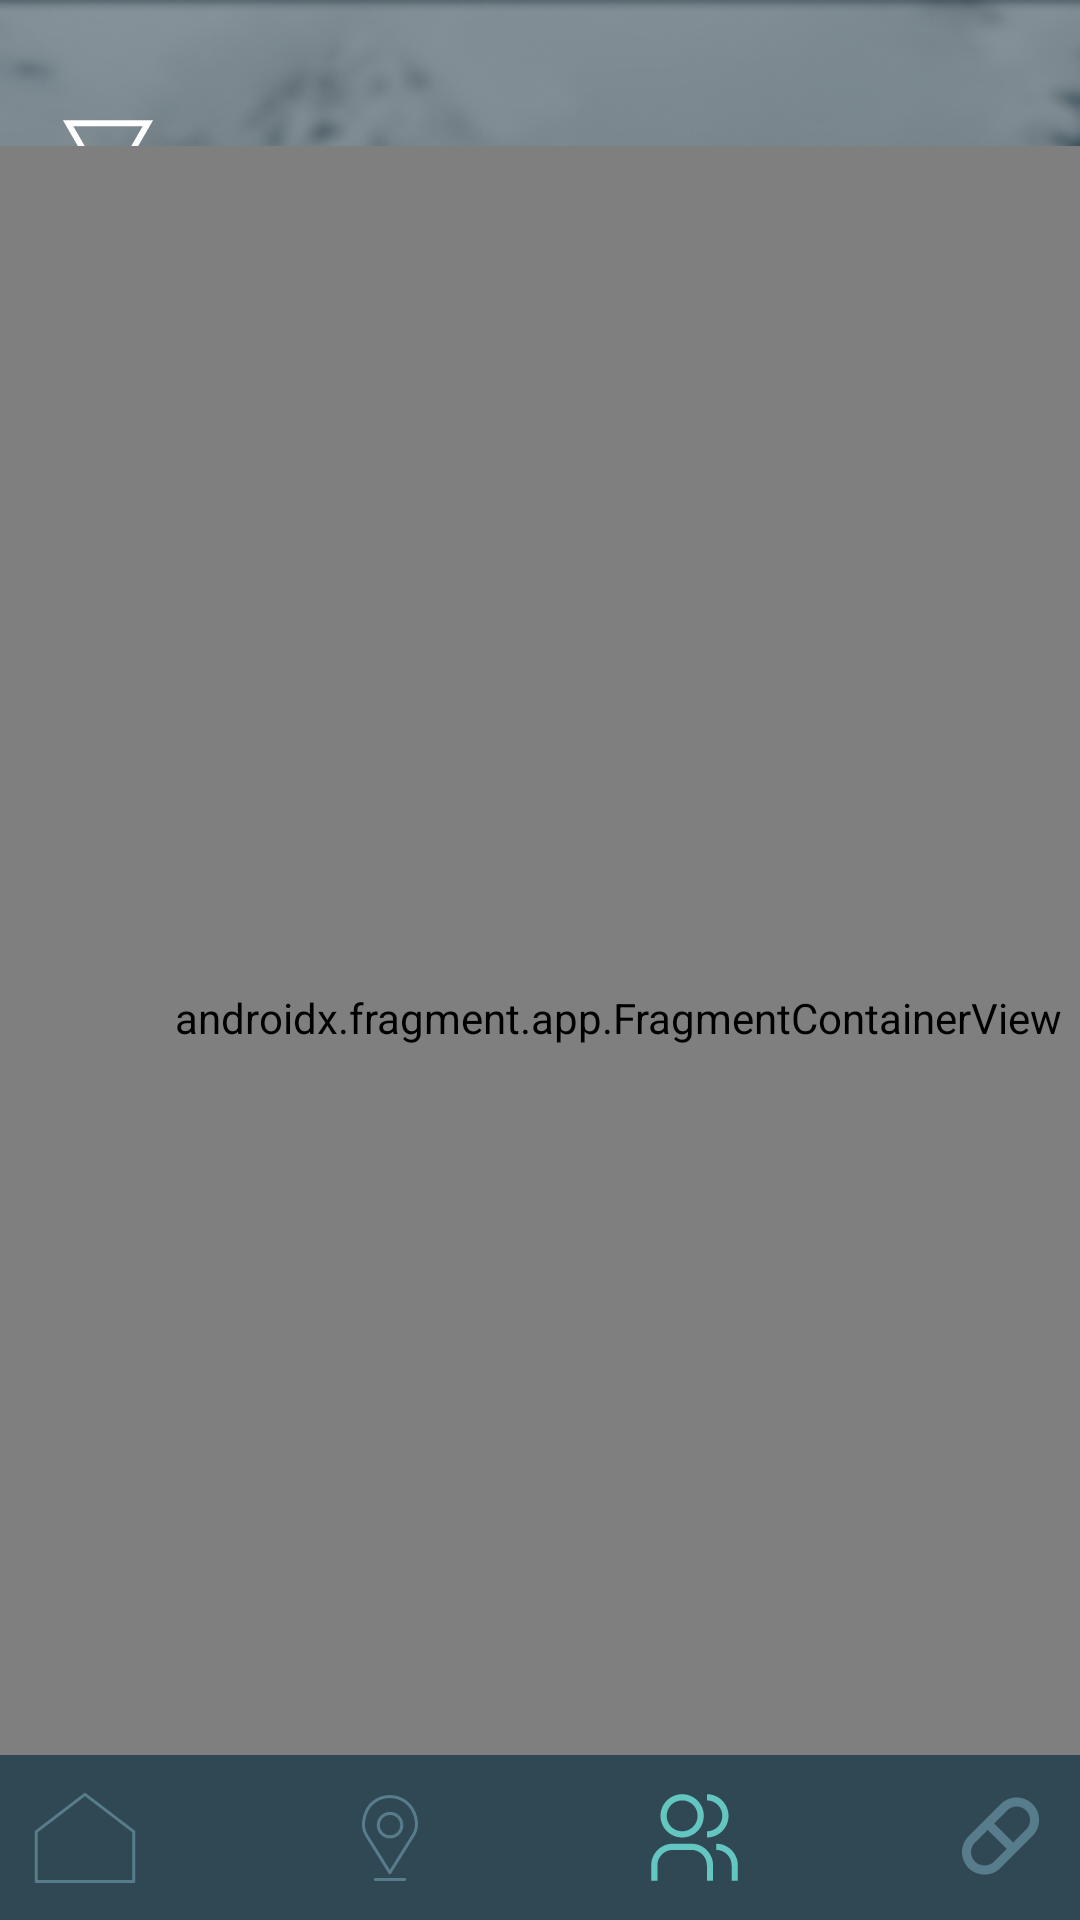

Screen size 1080*1920. Icon name, then its box in pixels as (x1, y1, x2, y2):
friends: (651, 1794, 738, 1881)
map: (362, 1795, 418, 1881)
